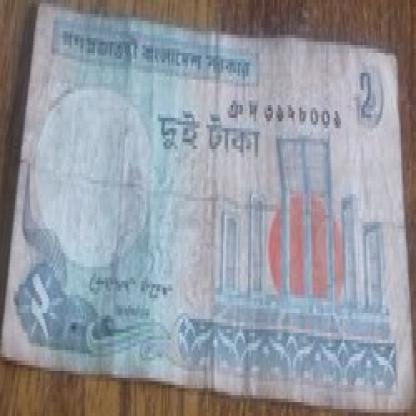two taka: (26, 253, 80, 350), (354, 76, 390, 132)
